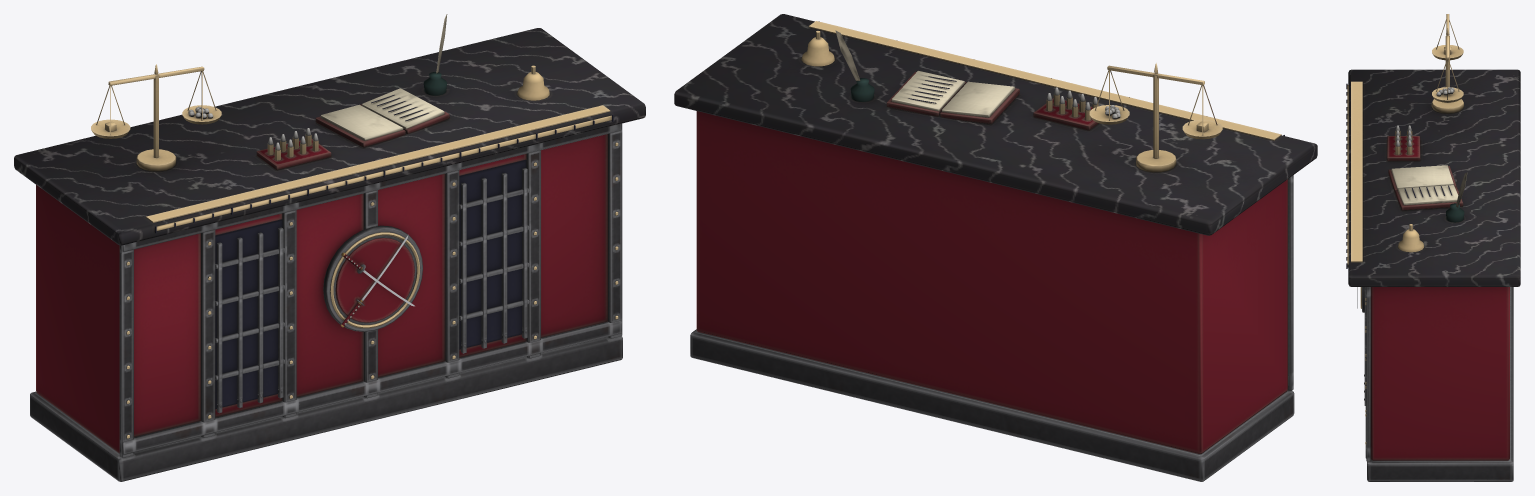
File: ArmoryCounter.fbx
The picture shows the model from 3 angles, left to right: view 1: azimuth 30°, elevation 25°; view 2: azimuth 150°, elevation 25°; view 3: azimuth 270°, elevation 25°; orthographic projection. The views are drawn at different scales.
Visible parts, largest first — view 1: ArmoryCounter; view 2: ArmoryCounter; view 3: ArmoryCounter.
Part boxes in pixels (x1,y1,x2,y2): ArmoryCounter: [14, 14, 645, 481]; ArmoryCounter: [674, 14, 1317, 481]; ArmoryCounter: [1346, 14, 1520, 481].
Bounding box in the file's own units: 670 × 439 × 238.
